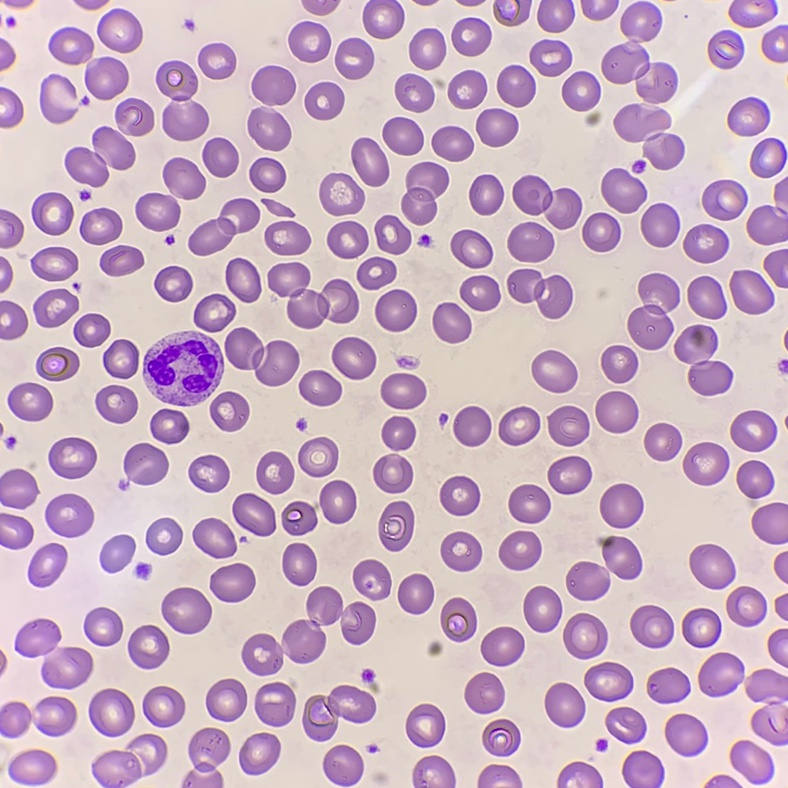RBC: (242, 587, 375, 674), (602, 4, 676, 102), (143, 331, 223, 405), (268, 263, 358, 328), (16, 619, 93, 688), (614, 104, 683, 169), (225, 328, 298, 385), (157, 61, 208, 140), (66, 127, 134, 186), (303, 685, 375, 740), (93, 734, 167, 787), (189, 199, 259, 255), (675, 325, 731, 395), (628, 273, 678, 349), (513, 176, 581, 228), (507, 269, 572, 318), (0, 696, 76, 736), (401, 162, 447, 224), (182, 728, 230, 787), (747, 179, 787, 244), (162, 588, 211, 633), (89, 689, 134, 736), (601, 168, 645, 213), (46, 494, 93, 536), (690, 544, 734, 588), (563, 613, 606, 658), (49, 437, 96, 478), (98, 9, 142, 52), (683, 442, 728, 484), (584, 662, 632, 700), (85, 57, 128, 99), (730, 270, 772, 313), (332, 337, 375, 379), (600, 484, 642, 527), (598, 536, 641, 578), (630, 605, 673, 647), (699, 653, 742, 695), (319, 174, 363, 215), (532, 351, 576, 392), (731, 410, 775, 451), (351, 138, 388, 186), (248, 108, 290, 150), (233, 493, 275, 535), (124, 443, 167, 484), (508, 222, 553, 261), (163, 158, 205, 199), (128, 625, 168, 668), (702, 180, 746, 219), (524, 586, 561, 632), (32, 193, 73, 234), (375, 290, 416, 331), (596, 391, 637, 432), (239, 733, 280, 774), (255, 683, 295, 725), (545, 683, 584, 726), (34, 289, 78, 327), (8, 383, 52, 421), (289, 22, 330, 62), (206, 679, 246, 720), (143, 686, 184, 726), (193, 519, 235, 558), (252, 66, 295, 104), (684, 224, 727, 262), (566, 562, 609, 600), (481, 627, 524, 665), (379, 502, 413, 550), (210, 564, 254, 601), (665, 714, 705, 754), (730, 740, 770, 780), (323, 745, 363, 785), (499, 531, 540, 570), (406, 704, 444, 746), (136, 193, 179, 230), (29, 543, 66, 586), (8, 750, 56, 783), (548, 406, 588, 445), (509, 484, 549, 523), (441, 532, 481, 571), (451, 230, 492, 268), (641, 204, 678, 246), (688, 276, 725, 318), (548, 456, 590, 493), (50, 28, 93, 64), (381, 373, 425, 408), (298, 437, 337, 476), (440, 476, 479, 515), (465, 673, 504, 712), (363, 0, 403, 38), (335, 38, 373, 78), (499, 407, 539, 445), (31, 247, 77, 280), (476, 109, 517, 146), (194, 294, 235, 331), (96, 385, 137, 422), (441, 598, 476, 641), (728, 98, 767, 136), (210, 392, 248, 431), (373, 454, 412, 492), (497, 66, 534, 106), (327, 221, 367, 258), (189, 455, 229, 492), (257, 452, 293, 493), (320, 481, 355, 523), (752, 701, 787, 743), (226, 259, 260, 302), (265, 221, 309, 254), (448, 70, 486, 108), (727, 587, 765, 625), (682, 608, 720, 646), (433, 303, 470, 342), (0, 469, 37, 508), (353, 560, 390, 599), (409, 29, 445, 69), (383, 118, 423, 154), (454, 406, 490, 446), (623, 751, 663, 787), (530, 41, 571, 76), (299, 370, 340, 405), (647, 668, 689, 702), (452, 18, 490, 55), (562, 72, 599, 110), (395, 74, 433, 111), (305, 82, 343, 119), (582, 213, 619, 251), (84, 608, 122, 645), (81, 209, 121, 244), (752, 503, 787, 543), (283, 543, 316, 585), (644, 423, 681, 460), (203, 138, 238, 177), (398, 574, 433, 613), (432, 127, 472, 161), (37, 347, 78, 380), (412, 756, 455, 787), (198, 43, 235, 79), (116, 99, 153, 135), (601, 345, 637, 382), (482, 719, 519, 755), (750, 139, 785, 177), (469, 175, 503, 214), (460, 276, 499, 310), (606, 707, 645, 741), (745, 669, 787, 700), (375, 216, 410, 253), (155, 266, 192, 301), (104, 340, 138, 378), (150, 409, 188, 443), (146, 518, 181, 554), (40, 84, 72, 123), (100, 246, 143, 275), (737, 461, 771, 497), (357, 257, 395, 289), (250, 158, 285, 192), (729, 0, 773, 27), (101, 535, 134, 571), (708, 33, 741, 68), (537, 0, 573, 32), (382, 416, 415, 450), (282, 502, 316, 535), (74, 314, 109, 346), (0, 513, 32, 548), (0, 301, 27, 339), (562, 762, 602, 787), (478, 765, 521, 787), (762, 27, 787, 62), (764, 249, 787, 287), (0, 88, 22, 127), (0, 210, 23, 247), (581, 0, 617, 20), (768, 629, 787, 666), (302, 0, 338, 14), (512, 0, 530, 24), (0, 40, 14, 69), (706, 775, 738, 787), (774, 552, 787, 581), (268, 202, 289, 216), (775, 595, 787, 619), (77, 0, 105, 9), (398, 356, 416, 368), (429, 642, 441, 655), (587, 113, 599, 124), (0, 654, 6, 671), (0, 258, 8, 270), (461, 0, 479, 5), (419, 237, 430, 245), (633, 163, 642, 172), (375, 773, 384, 782), (0, 280, 7, 291), (362, 672, 370, 681), (6, 438, 14, 446), (557, 780, 566, 787), (9, 0, 19, 6), (419, 0, 432, 4), (21, 0, 29, 4)
